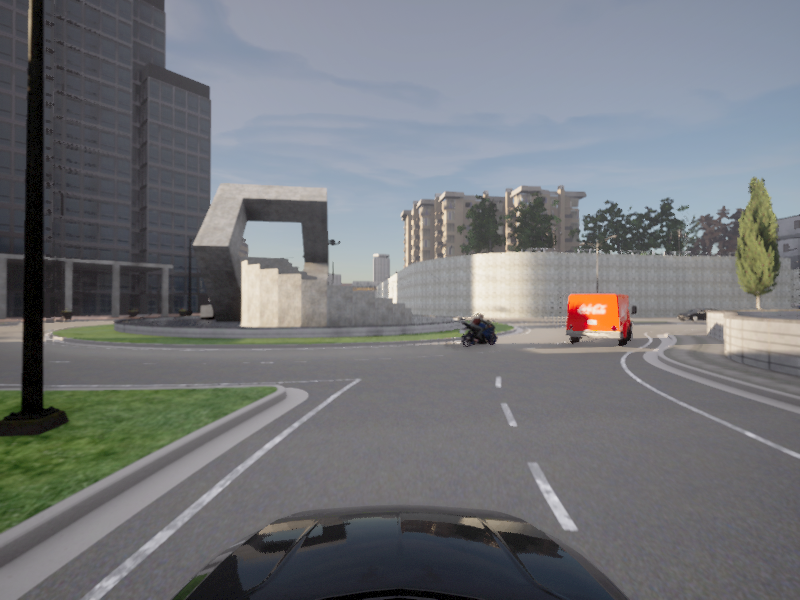vehicle: (562, 293, 638, 348), (455, 314, 503, 349)
